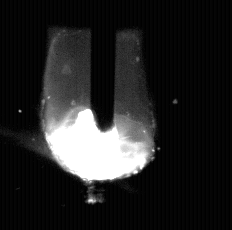arame: (92, 0, 116, 133)
poca: (44, 0, 154, 230)
